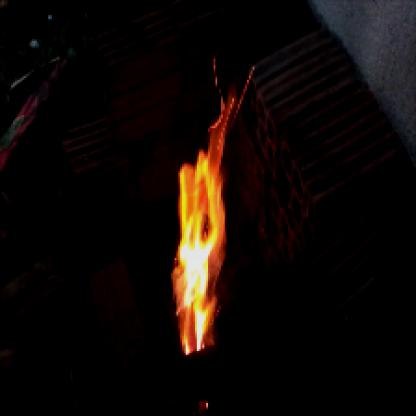Fire: (165, 56, 260, 360)
